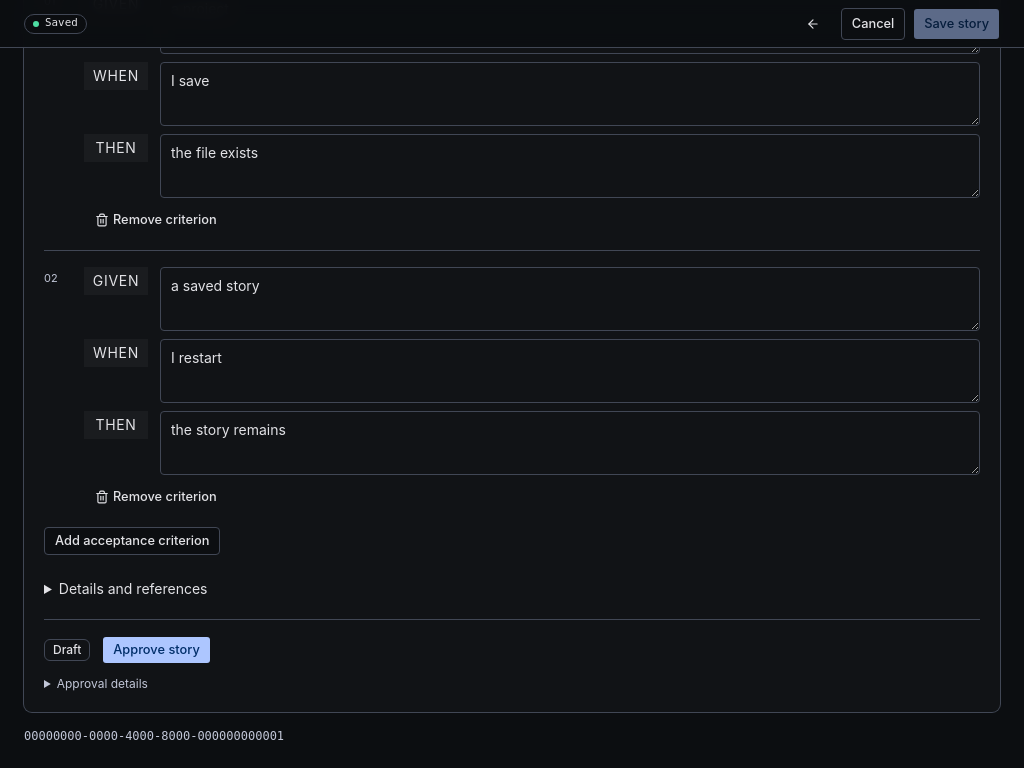
Scenario: keeps the draft after a stale approval response and does not retry against a refreshed hash
(page scrolled)
Click the button "Approve story".
click(157, 650)  # box [102, 636, 211, 664]
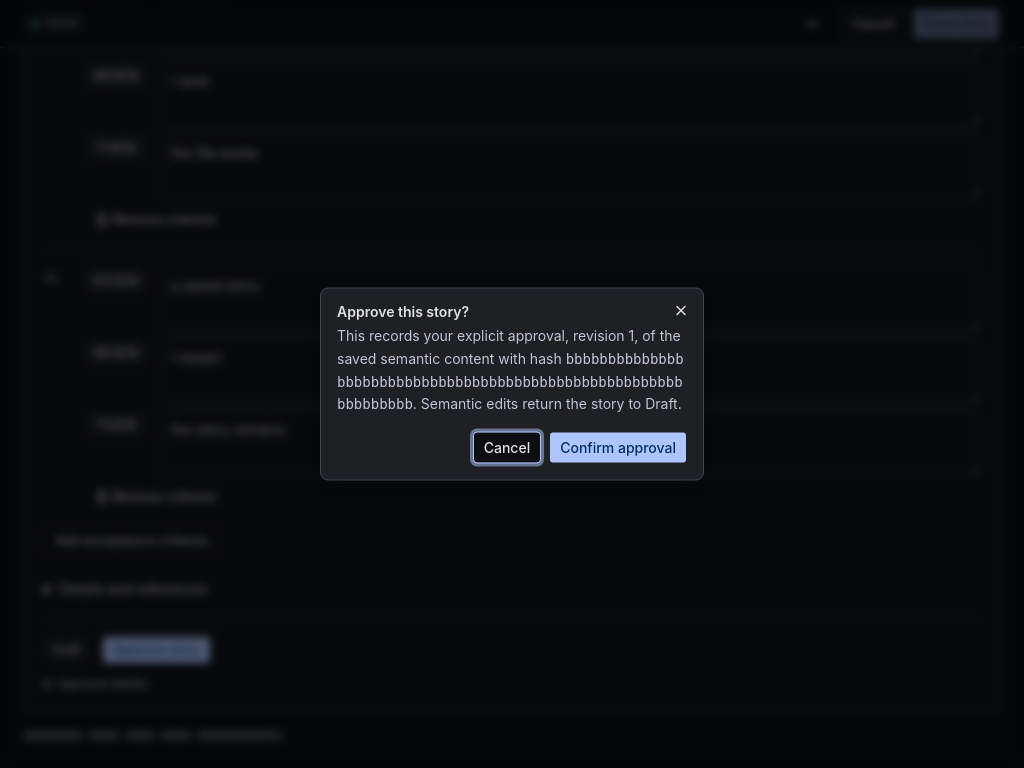
Click the button "Confirm approval".
click(618, 448)  # box [549, 432, 687, 464]
(page scrolled)
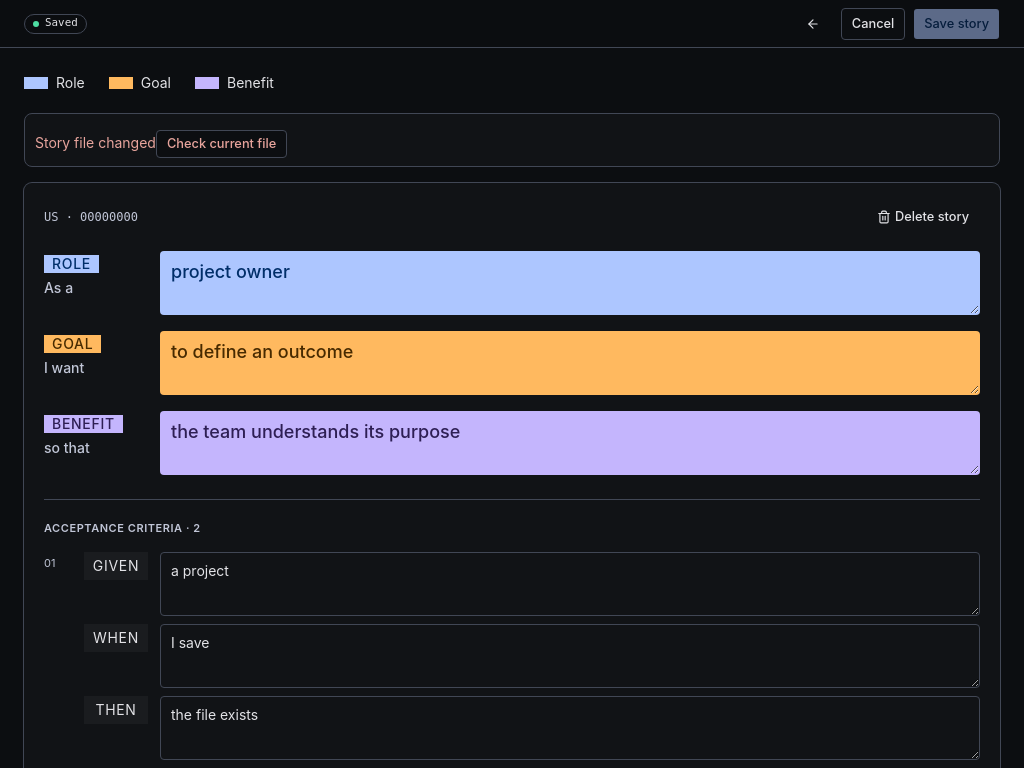
Expected: the text box labelled "Role As a" holds "project owner", [160, 251, 980, 315]
Expected: the text "Story file changed" is shown, [35, 134, 156, 151]
Expected: the button "Check current file" is enabled, [156, 130, 287, 158]
